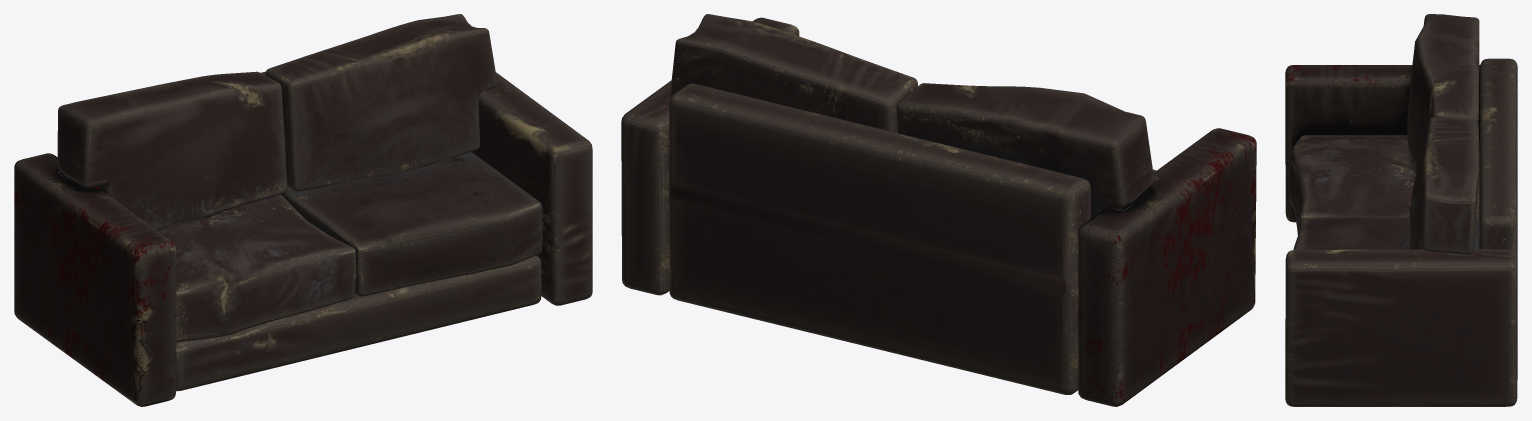
Rendered from old_sofa.glb.
The picture shows the model from 3 angles, left to right: view 1: azimuth 30°, elevation 25°; view 2: azimuth 150°, elevation 25°; view 3: azimuth 270°, elevation 25°; orthographic projection. The views are drawn at different scales.
Visible parts, largest first — view 1: Box001_5_0, Box001_2_0, Box001_1_0, Box001_3_0, Box001_4_0, Box001_7_0, Box001_6_0; view 2: Box001_7_0, Box001_5_0, Box001_1_0, Box001_2_0, Box001_6_0; view 3: Box001_6_0, Box001_4_0, Box001_5_0, Box001_2_0, Box001_1_0, Box001_7_0, Box001_3_0.
Boxes of the visible parts, <box> form: Box001_5_0: <box>14,153,176,406</box>; Box001_2_0: <box>265,14,497,191</box>; Box001_1_0: <box>57,71,287,230</box>; Box001_3_0: <box>281,152,542,296</box>; Box001_4_0: <box>158,195,356,342</box>; Box001_7_0: <box>176,71,541,391</box>; Box001_6_0: <box>471,72,592,305</box>; Box001_7_0: <box>668,83,1090,394</box>; Box001_5_0: <box>1078,128,1256,406</box>; Box001_1_0: <box>896,83,1154,218</box>; Box001_2_0: <box>670,14,917,132</box>; Box001_6_0: <box>621,17,799,295</box>; Box001_6_0: <box>1285,249,1517,406</box>; Box001_4_0: <box>1288,135,1479,242</box>; Box001_5_0: <box>1285,65,1480,222</box>; Box001_2_0: <box>1409,117,1479,254</box>; Box001_1_0: <box>1407,14,1479,175</box>; Box001_7_0: <box>1479,58,1517,379</box>; Box001_3_0: <box>1293,216,1479,249</box>.
Size of the model in its own units: 2.77 by 1.33 by 1.34.
7 materials, 7 textured.
